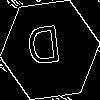D: (25, 25, 64, 75)
